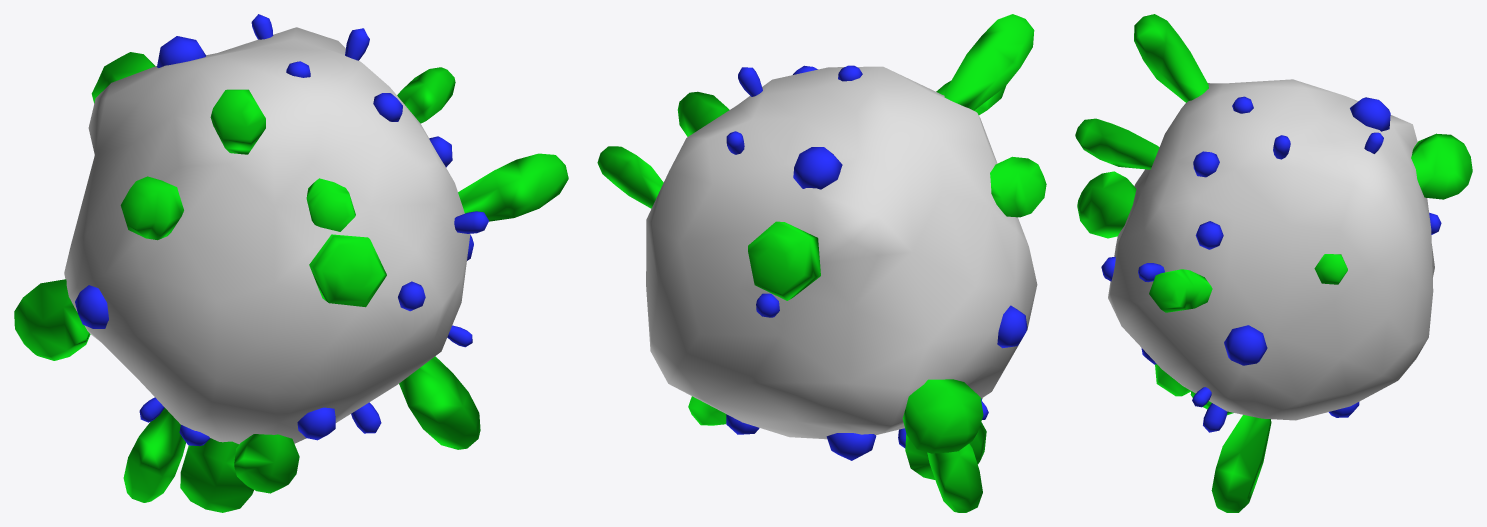
File: obj_voxelmaterialchunk_t1small.fbx
3 renders of one model, left to right at view 1: azimuth 30°, elevation 25°; view 2: azimuth 150°, elevation 25°; view 3: azimuth 270°, elevation 25°, orthographic. The views are drawn at different scales.
Visible parts, largest first — view 1: chunk.001, clutter_bulbrock.001, clutter_bulbcrystal.001; view 2: chunk.001, clutter_bulbrock.001, clutter_bulbcrystal.001; view 3: chunk.001, clutter_bulbrock.001, clutter_bulbcrystal.001.
Part boxes in pixels (box(x1,y1,x2,y2)): chunk.001: box(64, 27, 470, 444); clutter_bulbrock.001: box(14, 52, 568, 512); clutter_bulbcrystal.001: box(75, 14, 488, 446); chunk.001: box(646, 66, 1037, 439); clutter_bulbrock.001: box(597, 14, 1046, 512); clutter_bulbcrystal.001: box(726, 65, 1027, 460); chunk.001: box(1108, 79, 1434, 420); clutter_bulbrock.001: box(1075, 14, 1472, 512); clutter_bulbcrystal.001: box(1101, 96, 1441, 432).
Bounding box in the file's own units: 6.72 × 6.9 × 6.43.
